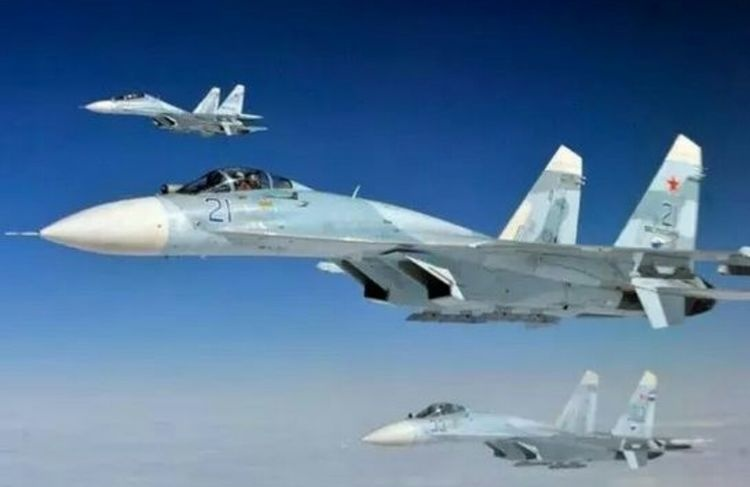airplane: (11, 131, 747, 333), (349, 370, 707, 468), (77, 80, 274, 140)
